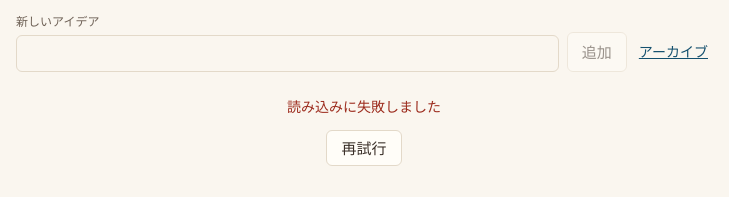
Scenario: Ideas › offers a retry when the first load fails
Click the button "再試行": (364, 148) [326,130,402,166]
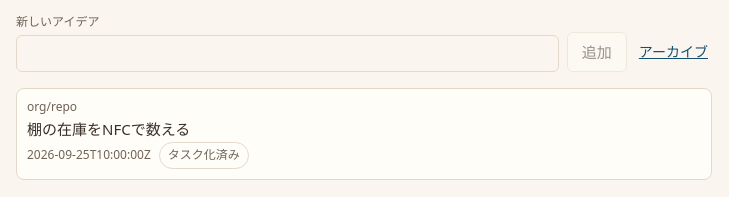
Check: the link "org/repo 棚の在庫をNFCで数える 2026-09-25T10:00:00Z タスク化済み" is shown, box [16,88,712,180]
